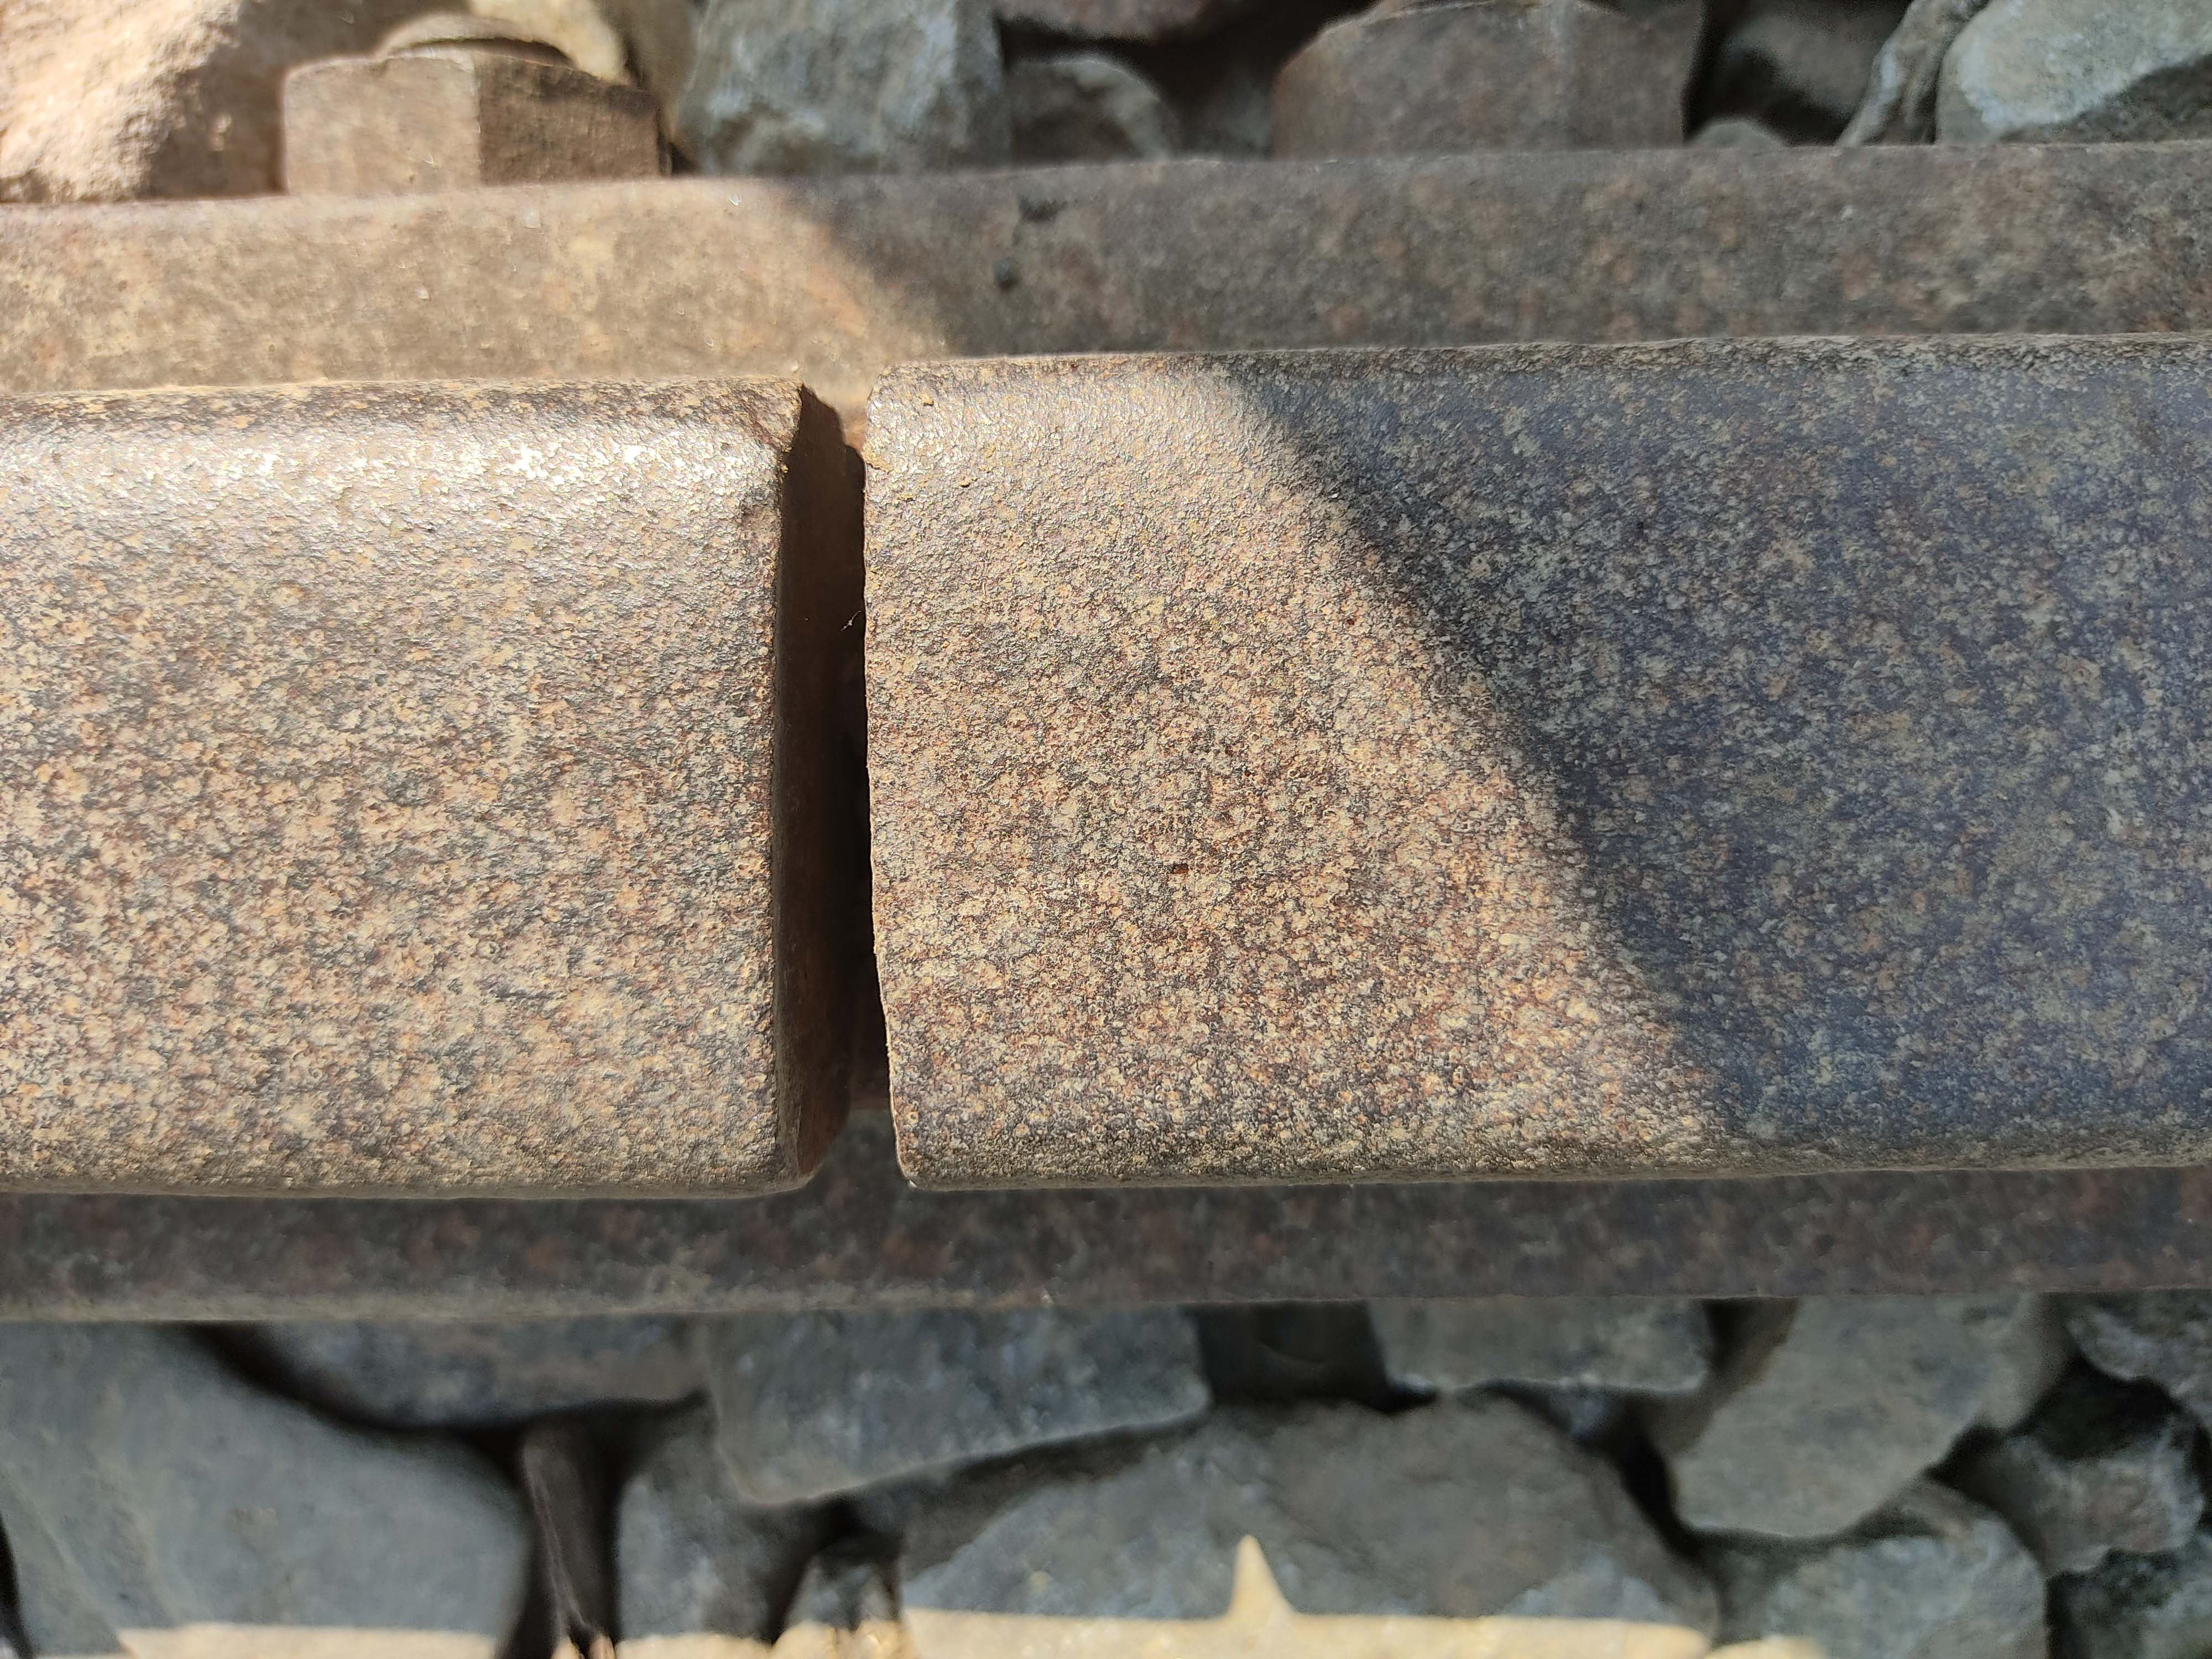error2: (707, 333, 977, 1290)
